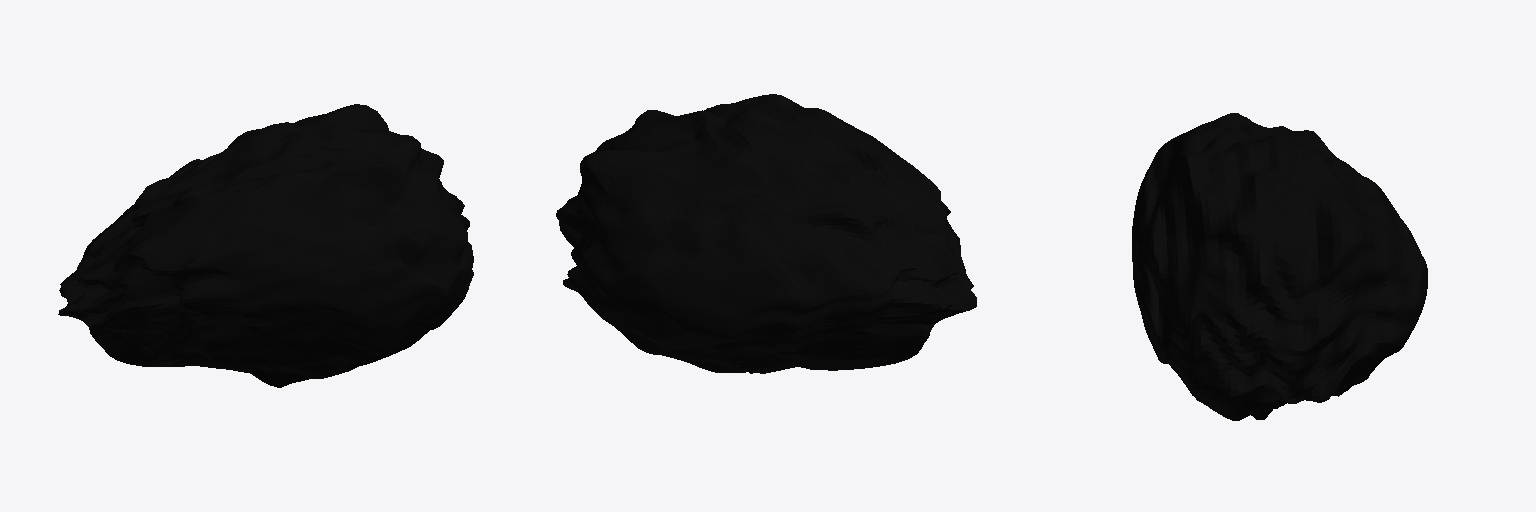
Rendered from Astro.obj.
3 renders of one model, left to right at view 1: azimuth 30°, elevation 25°; view 2: azimuth 150°, elevation 25°; view 3: azimuth 270°, elevation 25°, orthographic.
Parts seen in each view (by area): view 1: asteroid_OBJ; view 2: asteroid_OBJ; view 3: asteroid_OBJ.
Part boxes in pixels (left/top/right/bottom): asteroid_OBJ: left=58, top=104, right=473, bottom=387; asteroid_OBJ: left=556, top=94, right=976, bottom=373; asteroid_OBJ: left=1132, top=113, right=1427, bottom=420.
Size of the model in its own units: 9.38 by 5.57 by 5.93.